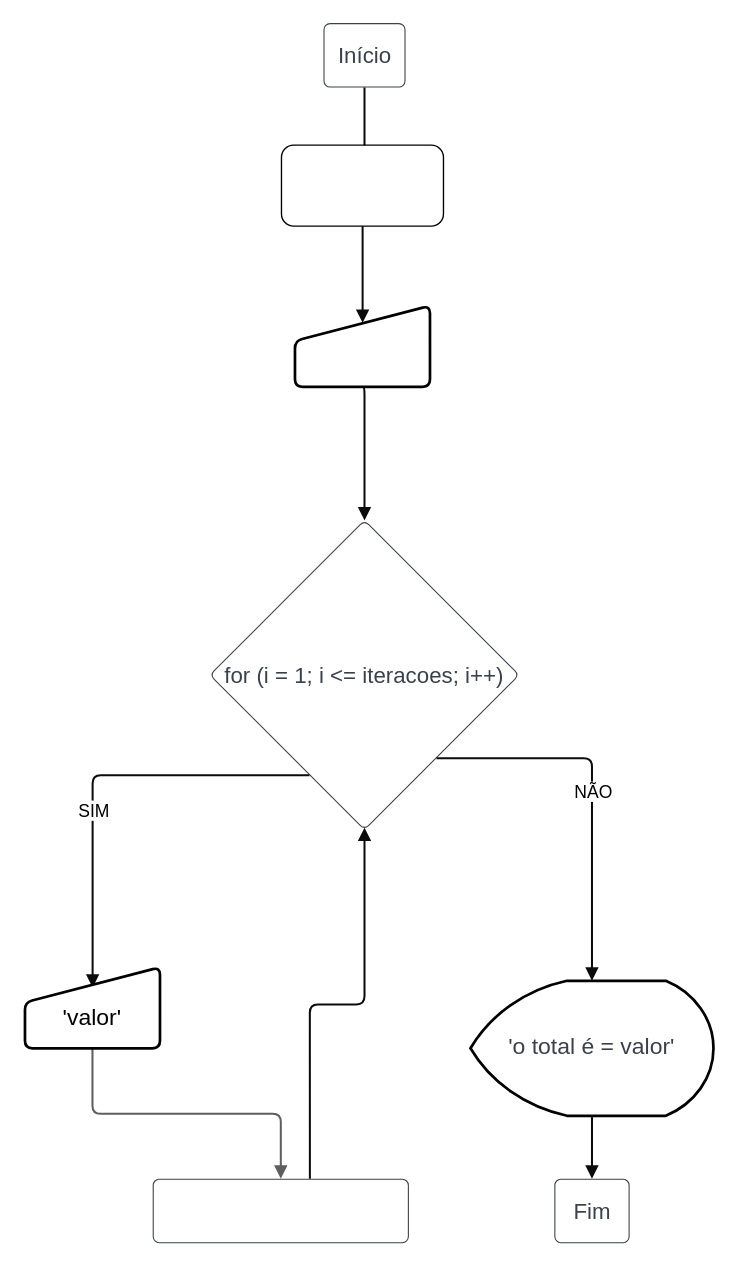
Image size: 737x1266. Some labels were removed from this diagram. Each missing label, with the box of its shape:
'iteracoes': (293, 304, 431, 387)
acumulado += valor: (152, 1178, 408, 1243)
i, iteracoes, acumulado, valor: (280, 144, 443, 226)
